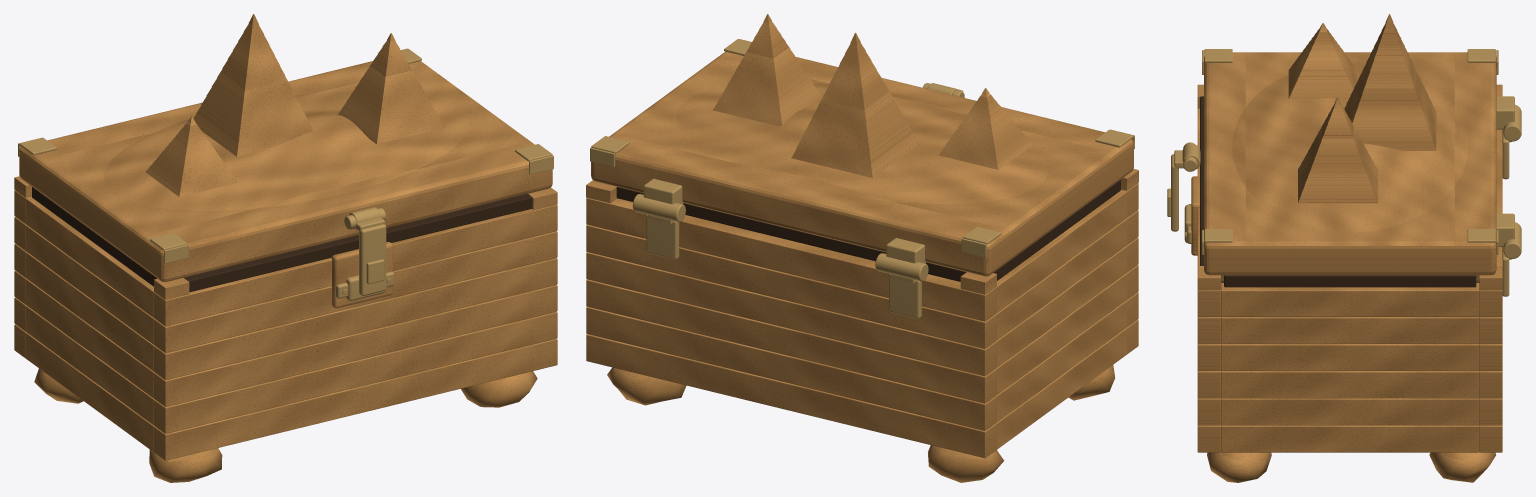
File: sudan.glb
3 renders of one model, left to right at view 1: azimuth 30°, elevation 25°; view 2: azimuth 150°, elevation 25°; view 3: azimuth 270°, elevation 25°, orthographic.
Visible parts, largest first — view 1: Lid / polished slab, Terrain / ochre dunes, Sandstone / long course 0, Sandstone / long course 1, Sandstone / long course 2, Sandstone / long course 3, Sandstone / long course 5, Sandstone / long course 4, Pyramid / 2, Pyramid / 3, Mineral seam / long, Sandstone / side course 5 (+13 smaller); view 2: Lid / polished slab, Terrain / ochre dunes, Sandstone / long course 0.001, Sandstone / long course 1.001, Sandstone / long course 2.001, Sandstone / long course 3.001, Sandstone / long course 5.001, Sandstone / long course 4.001, Pyramid / 2, Pyramid / 3, Sandstone / side course 5, Pyramid / 1 (+17 smaller); view 3: Lid / polished slab, Terrain / ochre dunes, Sandstone / side course 5.001, Pyramid / 2, Sandstone / side course 0.001, Sandstone / side course 1.001, Sandstone / side course 2.001, Sandstone / side course 3.001, Sandstone / side course 4.001, Pyramid / 3, Pyramid / 1, Mineral seam / side.001 (+27 smaller).
Part boxes in pixels (x1,y1,x2,y2): Lid / polished slab: (19, 61, 552, 282); Terrain / ochre dunes: (103, 91, 468, 210); Sandstone / long course 0: (154, 338, 557, 460); Sandstone / long course 1: (154, 311, 557, 433); Sandstone / long course 2: (154, 285, 557, 406); Sandstone / long course 3: (154, 258, 557, 379); Sandstone / long course 5: (154, 204, 557, 326); Sandstone / long course 4: (154, 231, 557, 353); Pyramid / 2: (193, 14, 313, 156); Pyramid / 3: (338, 33, 444, 144); Mineral seam / long: (184, 194, 532, 292); Sandstone / side course 5: (26, 197, 154, 317); Lid / polished slab: (591, 51, 1133, 276); Terrain / ochre dunes: (676, 83, 1048, 204); Sandstone / long course 0.001: (586, 334, 996, 458); Sandstone / long course 1.001: (586, 306, 996, 430); Sandstone / long course 2.001: (586, 279, 996, 403); Sandstone / long course 3.001: (586, 252, 996, 376); Sandstone / long course 5.001: (586, 197, 996, 321); Sandstone / long course 4.001: (586, 224, 996, 348); Pyramid / 2: (791, 33, 919, 177); Pyramid / 3: (713, 14, 822, 125); Sandstone / side course 5: (996, 190, 1126, 312); Pyramid / 1: (938, 88, 1032, 169); Lid / polished slab: (1204, 52, 1496, 275); Terrain / ochre dunes: (1232, 62, 1468, 232); Sandstone / side course 5.001: (1221, 283, 1479, 316); Pyramid / 2: (1344, 14, 1436, 150); Sandstone / side course 0.001: (1221, 425, 1479, 452); Sandstone / side course 1.001: (1221, 398, 1479, 425); Sandstone / side course 2.001: (1221, 371, 1479, 398); Sandstone / side course 3.001: (1221, 344, 1479, 370); Sandstone / side course 4.001: (1221, 317, 1479, 343); Pyramid / 3: (1298, 97, 1377, 203); Pyramid / 1: (1288, 23, 1357, 98); Mineral seam / side.001: (1224, 275, 1476, 287).
Bounding box in the file's own units: 3.72 × 3.43 × 2.88.
4 materials, 1 textured.
